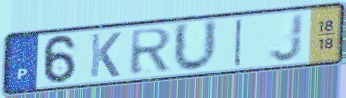6: (41, 33, 79, 87)
I: (232, 16, 245, 69)
J: (266, 12, 306, 64)
K: (88, 31, 124, 80)
R: (129, 26, 175, 77)
U: (171, 18, 220, 75)
